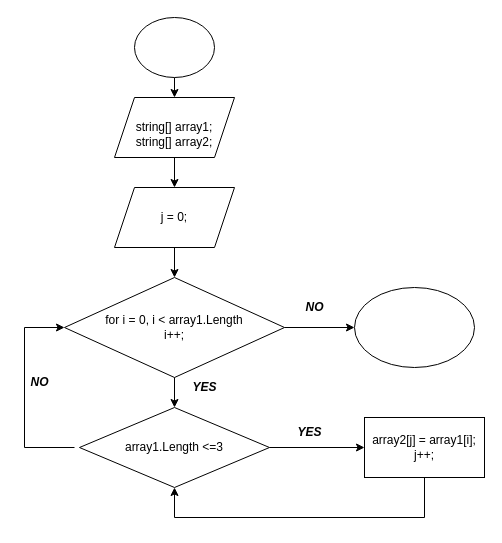
Image size: 502x543. Some labels were removed from this diagram. Each missing label, with the centre of its shape:
start;: the point at 174,47
stop: the point at 414,327
